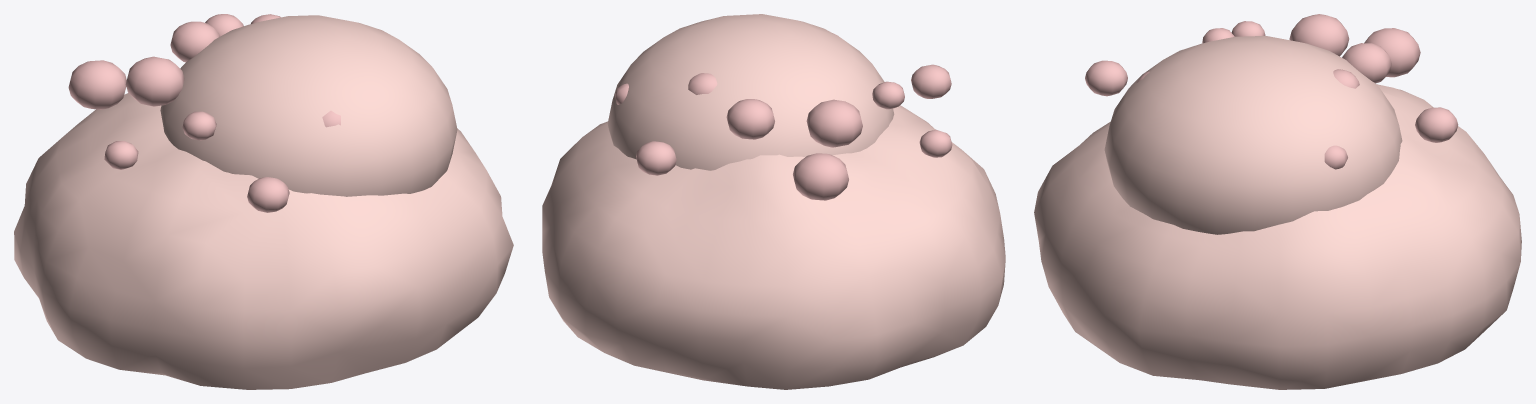
The model's file is relleno_plumbus_polvo.glb.
3 views of the same model, side by side, from view 1: azimuth 30°, elevation 25°; view 2: azimuth 150°, elevation 25°; view 3: azimuth 270°, elevation 25° (orthographic). The views are drawn at different scales.
Parts seen in each view (by area): view 1: relleno_plumbus_polvo; view 2: relleno_plumbus_polvo; view 3: relleno_plumbus_polvo.
Boxes of the visible parts, x1,y1,x2,y2 form: relleno_plumbus_polvo: (14,14,513,389); relleno_plumbus_polvo: (542,14,1005,389); relleno_plumbus_polvo: (1034,14,1521,389).
Size of the model in its own units: 1 by 0.5701 by 0.9767.
